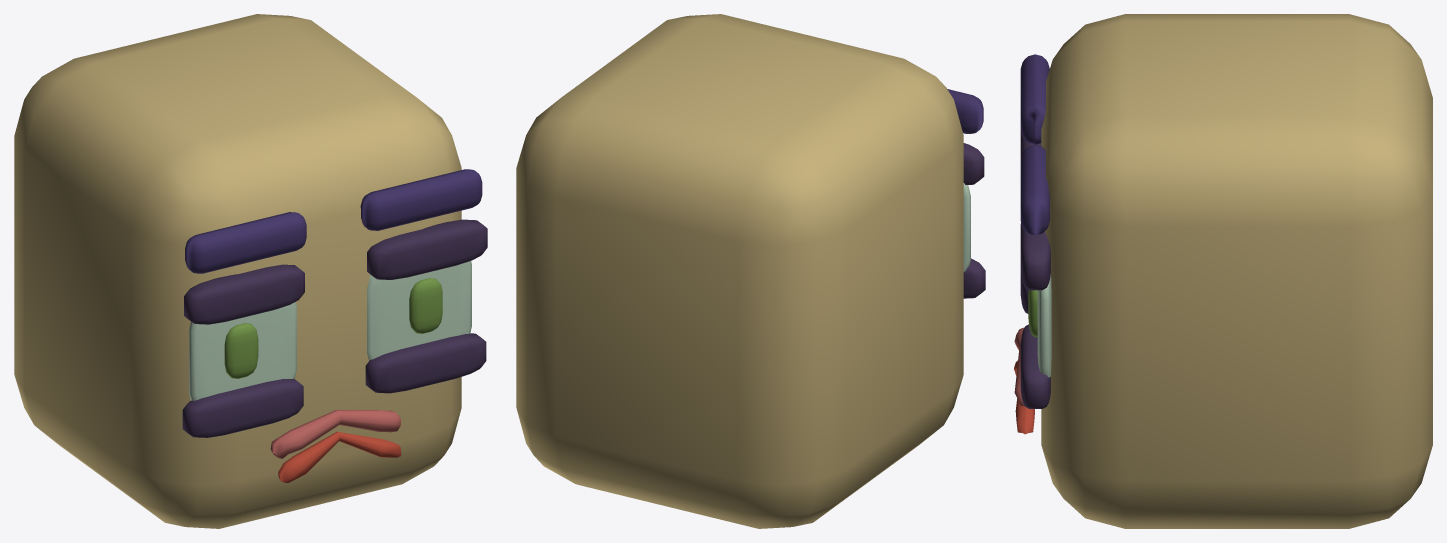
Rendered from HeadRobot_Eye.glb.
The picture shows the model from 3 angles, left to right: view 1: azimuth 30°, elevation 25°; view 2: azimuth 150°, elevation 25°; view 3: azimuth 270°, elevation 25°; orthographic projection. The views are drawn at different scales.
Visible parts, largest first — view 1: Head; view 2: Head; view 3: Head.
Boxes of the visible parts, left/top/right/bottom form: Head: left=14, top=14, right=487, bottom=528; Head: left=516, top=14, right=985, bottom=528; Head: left=1014, top=14, right=1432, bottom=528.
Size of the model in its own units: 0.7 by 0.8 by 0.7489.
